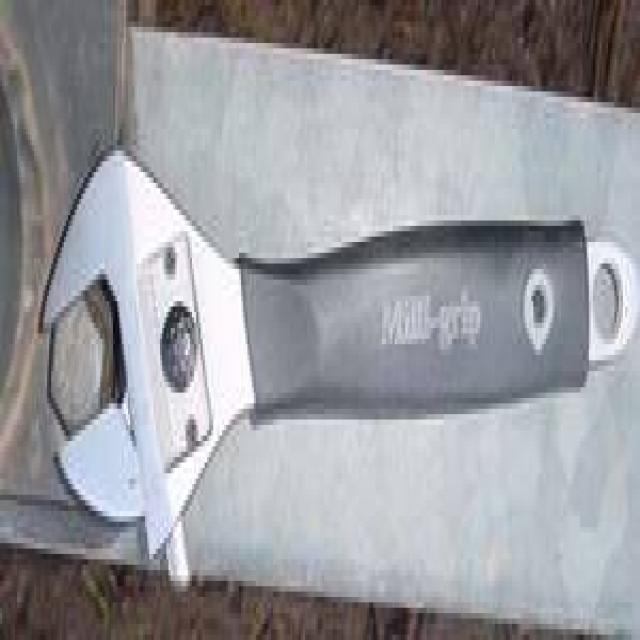wrench: (31, 131, 640, 560)
